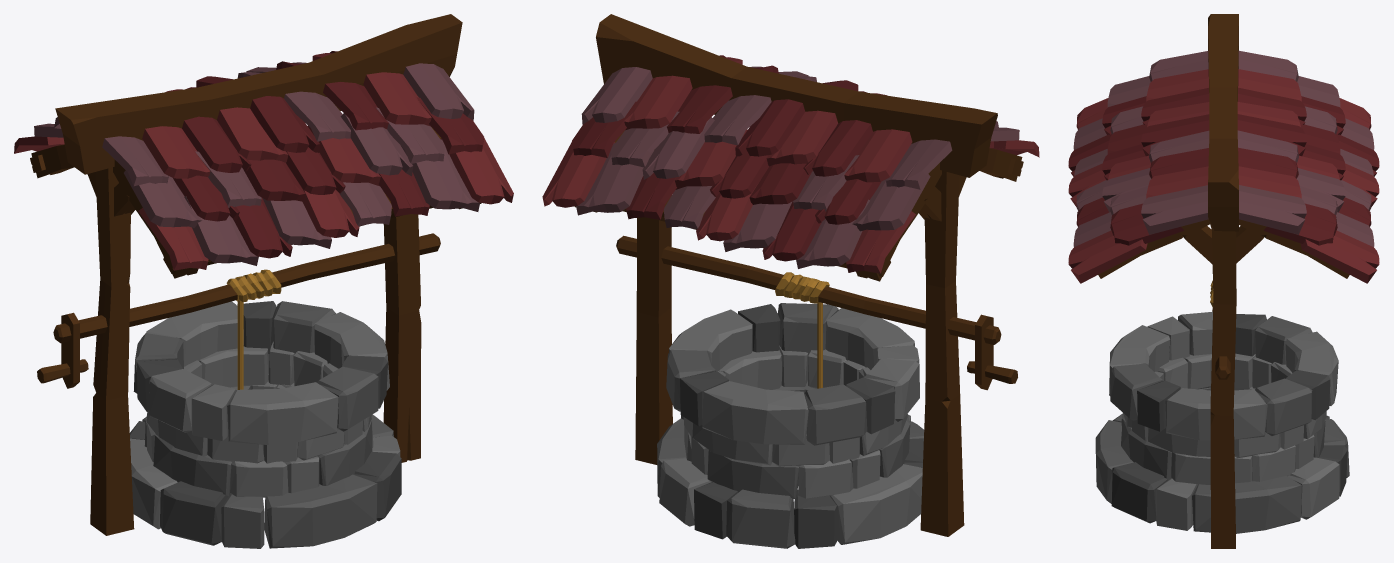
Rendered from SM_PozoAgua_01.fbx.
The picture shows the model from 3 angles, left to right: view 1: azimuth 30°, elevation 25°; view 2: azimuth 150°, elevation 25°; view 3: azimuth 270°, elevation 25°; orthographic projection. The views are drawn at different scales.
Parts seen in each view (by area): view 1: Cube.003, Cube, Cube.009, Cube.005, Cube.002, Cube.004, Cube.001, Cylinder, Cube.043, Cube.036, Cube.045, Cube.023 (+27 smaller); view 2: Cube.003, Cube, Cube.009, Cube.005, Cube.002, Cube.004, Cube.001, Cylinder, Cube.043, Cube.036, Cube.045, Cube.046 (+27 smaller); view 3: Cube.003, Cube, Cube.004, Cube.009, Cube.002, Cube.001, Cube.046, Cube.028, Cube.038, Cube.043, Cube.039, Cube.045 (+23 smaller).
Boxes of the visible parts, x1,y1,x2,y2 form: Cube.003: (133,301,389,444); Cube: (129,414,401,548); Cube.009: (55,14,462,174); Cube.005: (90,167,134,535); Cube.002: (146,341,371,463); Cube.004: (383,214,421,462); Cube.001: (144,374,373,497); Cylinder: (53,233,440,343); Cube.043: (196,76,319,152); Cube.036: (34,123,202,227); Cube.045: (312,53,431,126); Cube.023: (14,136,208,270); Cube.003: (666,303,919,445); Cube: (657,414,924,548); Cube.009: (596,14,997,177); Cube.005: (920,170,964,536); Cube.002: (681,345,907,466); Cube.004: (635,217,672,464); Cube.001: (684,381,910,498); Cylinder: (616,235,1001,344); Cube.043: (735,80,858,156); Cube.036: (852,127,1019,231); Cube.045: (624,57,742,130); Cube.046: (581,67,652,124); Cube.003: (1109,311,1338,440); Cube: (1095,414,1349,533); Cube.004: (1210,229,1236,548); Cube.009: (1208,14,1238,231); Cube.002: (1123,353,1326,458); Cube.001: (1121,386,1325,484); Cube.046: (1141,185,1306,234); Cube.028: (1068,230,1379,283); Cube.038: (1110,203,1337,245); Cube.043: (1141,114,1306,156); Cube.039: (1146,69,1301,101); Cube.045: (1146,166,1301,198).
Bounding box in the file's own units: 322 × 318 × 233.
